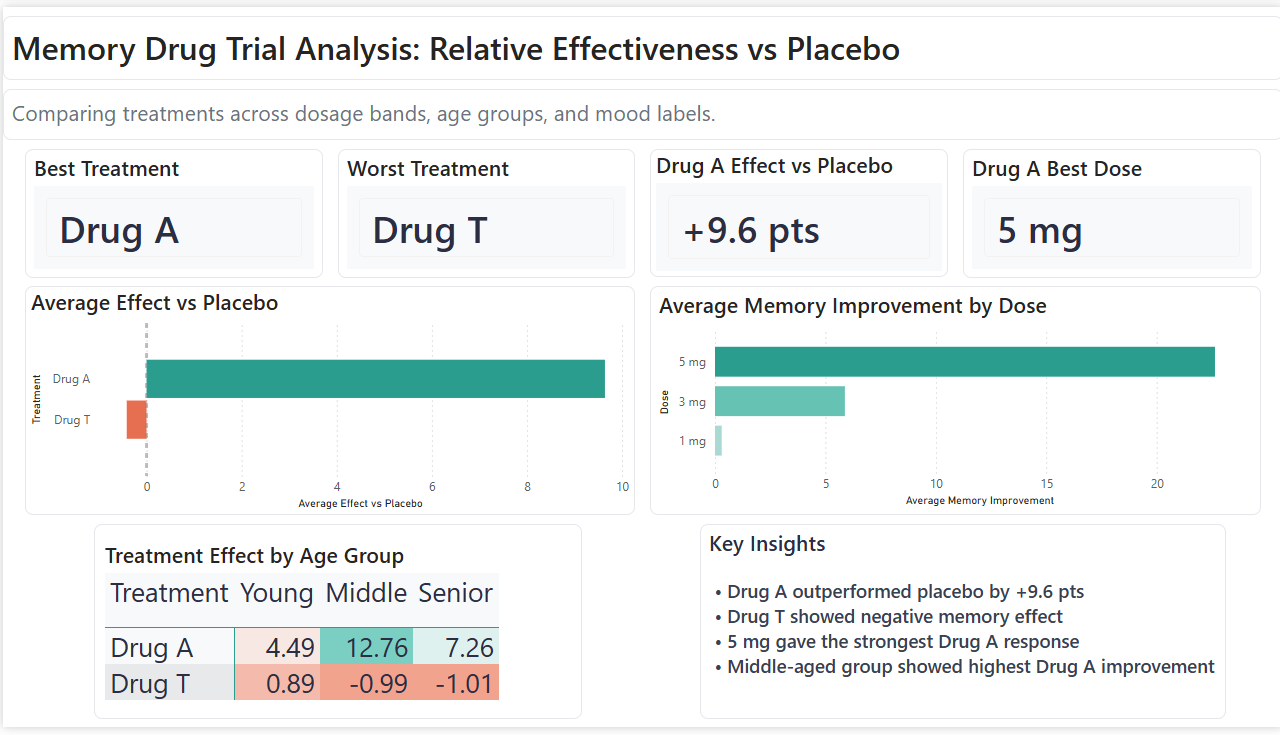

Layout of this report page (visuals, bound fields, positions):
{"tool":"powerbi","page":{"name":"Page 2","canvas":[1280,720],"ordinal":0},"visuals":[{"type":"textbox","box":[0,9,1280,64],"z":0},{"type":"textbox","box":[0,81.6,1280,51.6],"z":1000},{"type":"cardVisual","title":"Best Treatment","fields":{"Data":["islander_data_processed.Best Treatment"]},"box":[22,141.8,298,129],"z":2000},{"type":"cardVisual","title":"Worst Treatment","fields":{"Data":["Drug Selector.Worst Treatment"]},"box":[335,141.8,297,129],"z":3000},{"type":"cardVisual","title":"Drug A Effect vs Placebo","fields":{"Data":["islander_data_processed.Avg Effect vs Placebo (Label)"]},"box":[647,141.8,298.2,127.9],"z":4000},{"type":"cardVisual","title":"Drug A Best Dose","fields":{"Data":["islander_data_processed.Best Dosage Label"]},"box":[959.8,141.8,298.2,129],"z":5000},{"type":"clusteredBarChart","title":"Average Effect vs Placebo","fields":{"Category":["islander_data_processed.Drug_name"],"Y":["islander_data_processed.Avg Effect vs Placebo"]},"box":[22,279,610,229],"z":6000},{"type":"clusteredBarChart","fields":{"Category":["islander_data_processed.Dosage Label"],"Y":["Avg(islander_data_processed.Memory_improvement)"]},"box":[647,279,611,229],"z":7000},{"type":"pivotTable","title":"Treatment Effect by Age Group","fields":{"Rows":["islander_data_processed.Drug_name"],"Columns":["islander_data_processed.Age Group Clean"],"Values":["Avg(islander_data_processed.Memory_improvement)"]},"box":[91,517,488,195],"z":8000},{"type":"textbox","title":"Key Insights","box":[697,517,526,195],"z":8003}]}

Visuals, with their boxes in screenshot pixels (x1, y1, x2, y2), scaled from the page's 1280x720 canvas onto the 1280x735 screenshot:
textbox: <bbox>0, 9, 1279, 75</bbox>
textbox: <bbox>0, 83, 1279, 136</bbox>
"Best Treatment" cardVisual: <bbox>22, 145, 320, 276</bbox>
"Worst Treatment" cardVisual: <bbox>335, 145, 632, 276</bbox>
"Drug A Effect vs Placebo" cardVisual: <bbox>647, 145, 945, 275</bbox>
"Drug A Best Dose" cardVisual: <bbox>960, 145, 1258, 276</bbox>
"Average Effect vs Placebo" clusteredBarChart: <bbox>22, 285, 632, 519</bbox>
clusteredBarChart - islander_data_processed.Dosage Label x Avg(islander_data_processed.Memory_improvement): <bbox>647, 285, 1258, 519</bbox>
"Treatment Effect by Age Group" pivotTable: <bbox>91, 528, 579, 727</bbox>
"Key Insights" textbox: <bbox>697, 528, 1223, 727</bbox>
